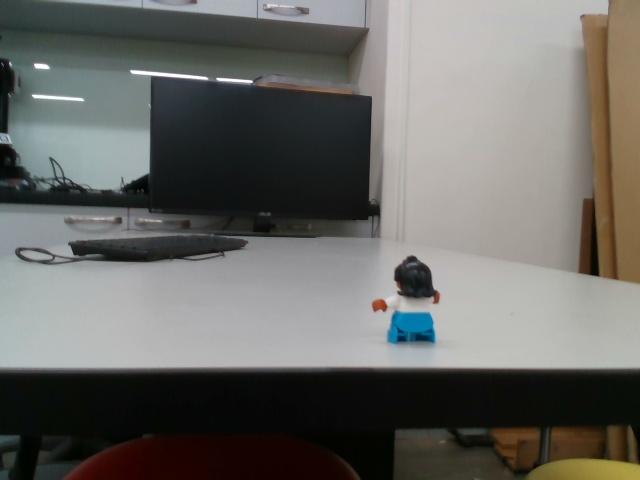people: (372, 254, 445, 347)
